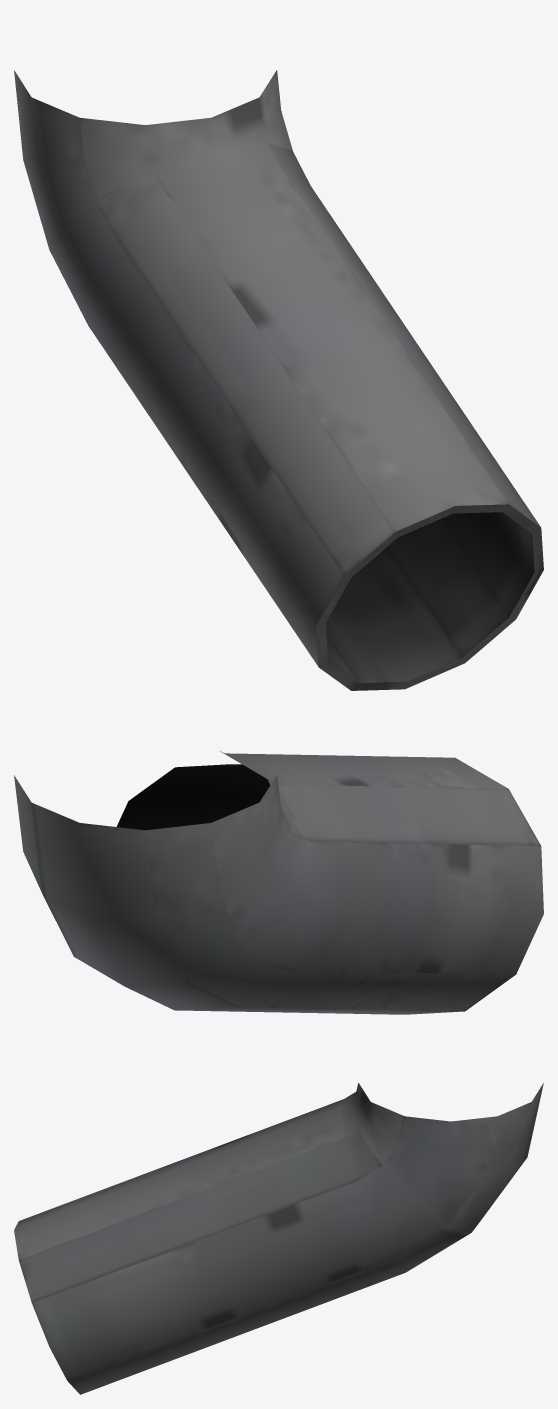
3 renders of one model, top to bottom at view 1: azimuth 30°, elevation 25°; view 2: azimuth 150°, elevation 25°; view 3: azimuth 270°, elevation 25°, orthographic. The views are drawn at different scales.
Visible parts, largest first — view 1: body0_model0_lod0_mesh0; view 2: body0_model0_lod0_mesh0; view 3: body0_model0_lod0_mesh0.
Boxes of the visible parts, box(x1,y1,x2,y2) form: body0_model0_lod0_mesh0: box(14, 70, 543, 690); body0_model0_lod0_mesh0: box(14, 751, 543, 1014); body0_model0_lod0_mesh0: box(14, 1083, 543, 1394).
Size of the model in its own units: 12 by 21.64 by 34.26.
1 material, 1 textured.
